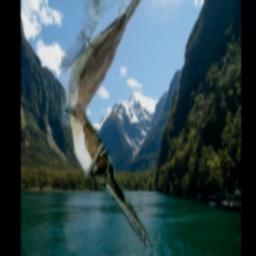Cuckoo: (60, 104, 153, 253), (61, 0, 146, 126)
